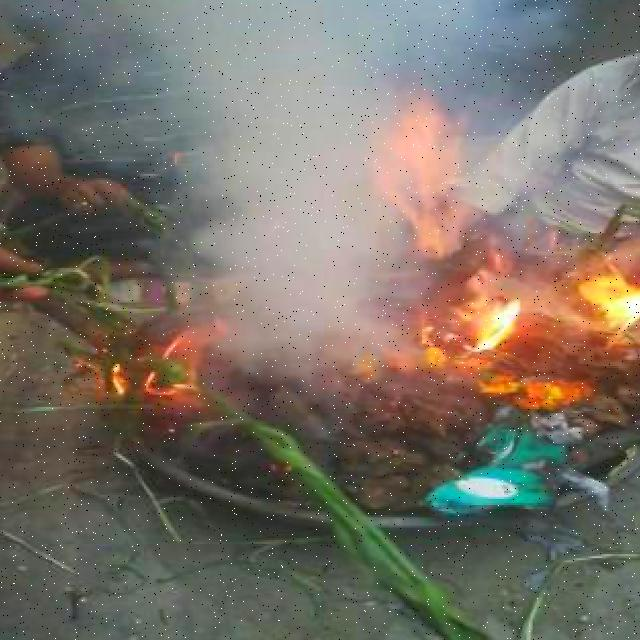fire: (377, 100, 467, 264), (463, 251, 529, 362), (467, 362, 588, 415), (573, 263, 640, 349), (402, 333, 465, 382)
smoke: (103, 0, 411, 412)
